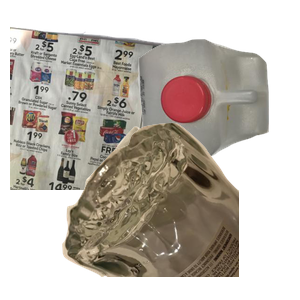glass: (60, 120, 300, 300)
paper: (10, 22, 225, 202)
plastic: (136, 37, 300, 188)
trash: (76, 124, 287, 300)
